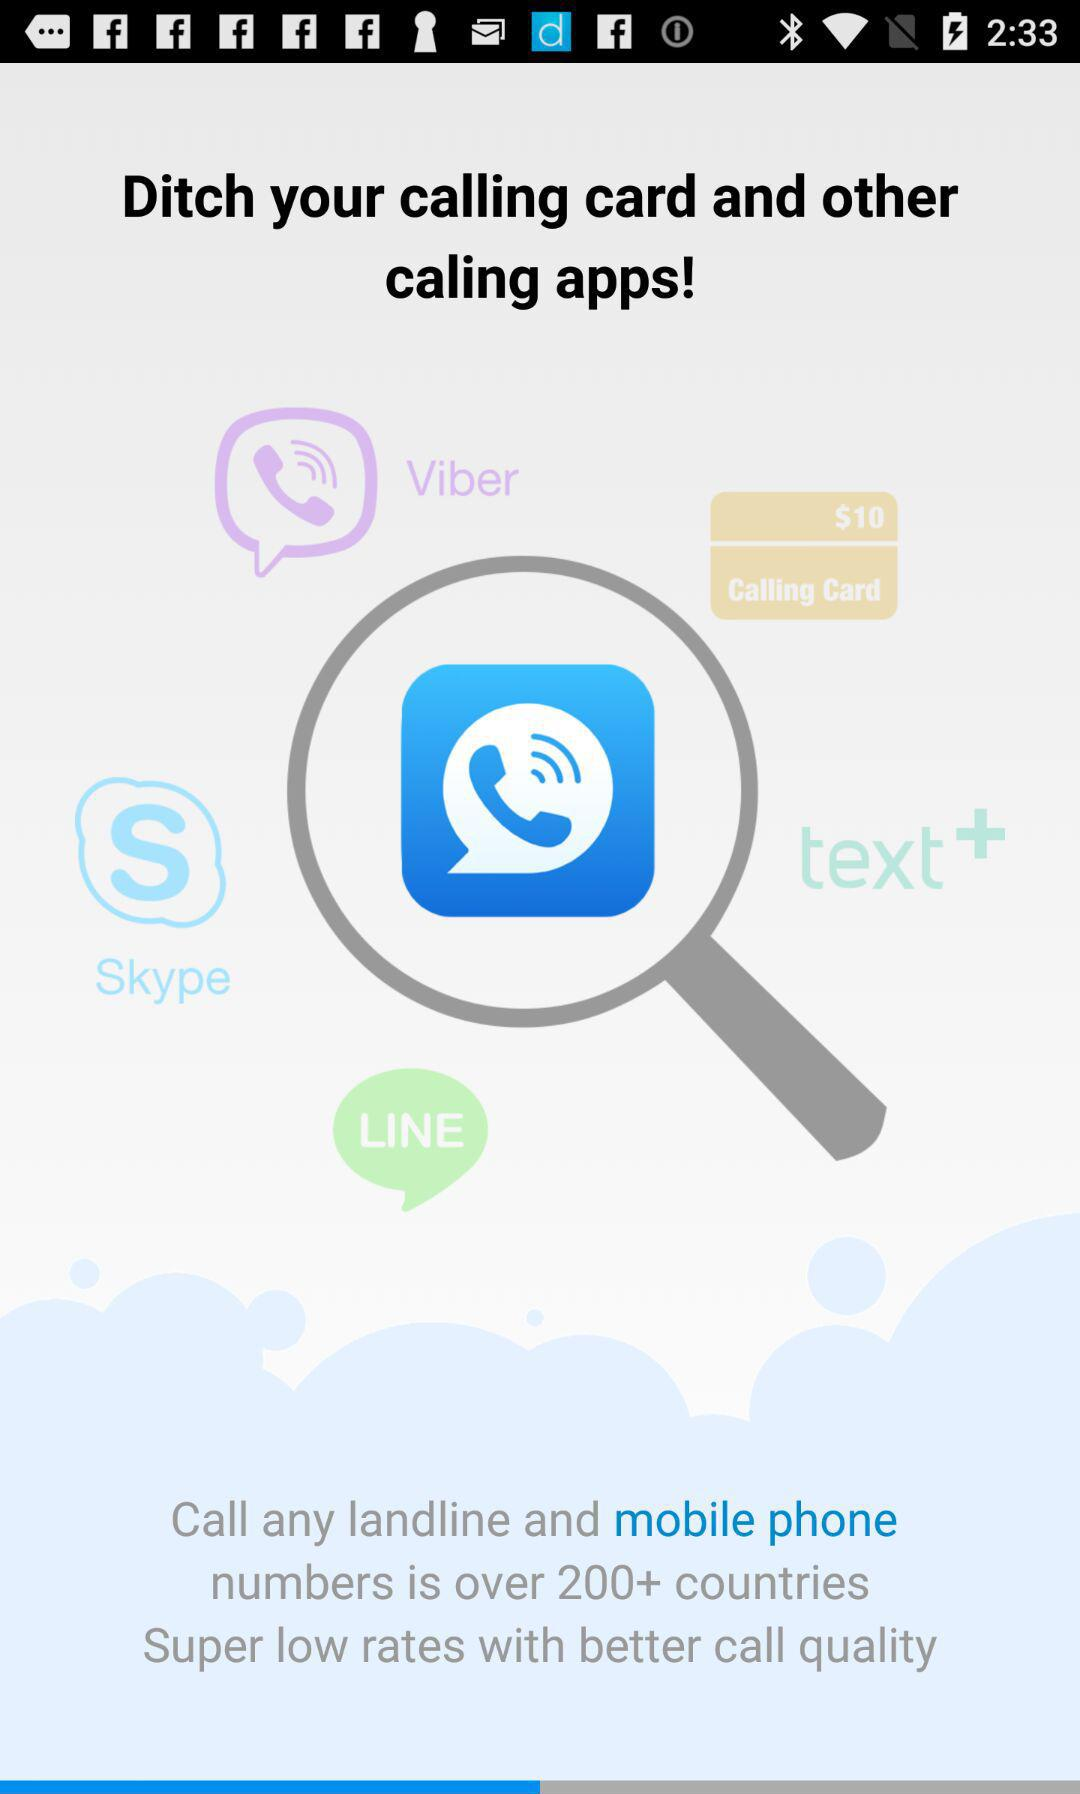Image: (70, 407, 1007, 1214)
Text: (143, 1499, 939, 1675), (124, 172, 960, 311)
UpperTaskBar: (1, 1, 1080, 64)
